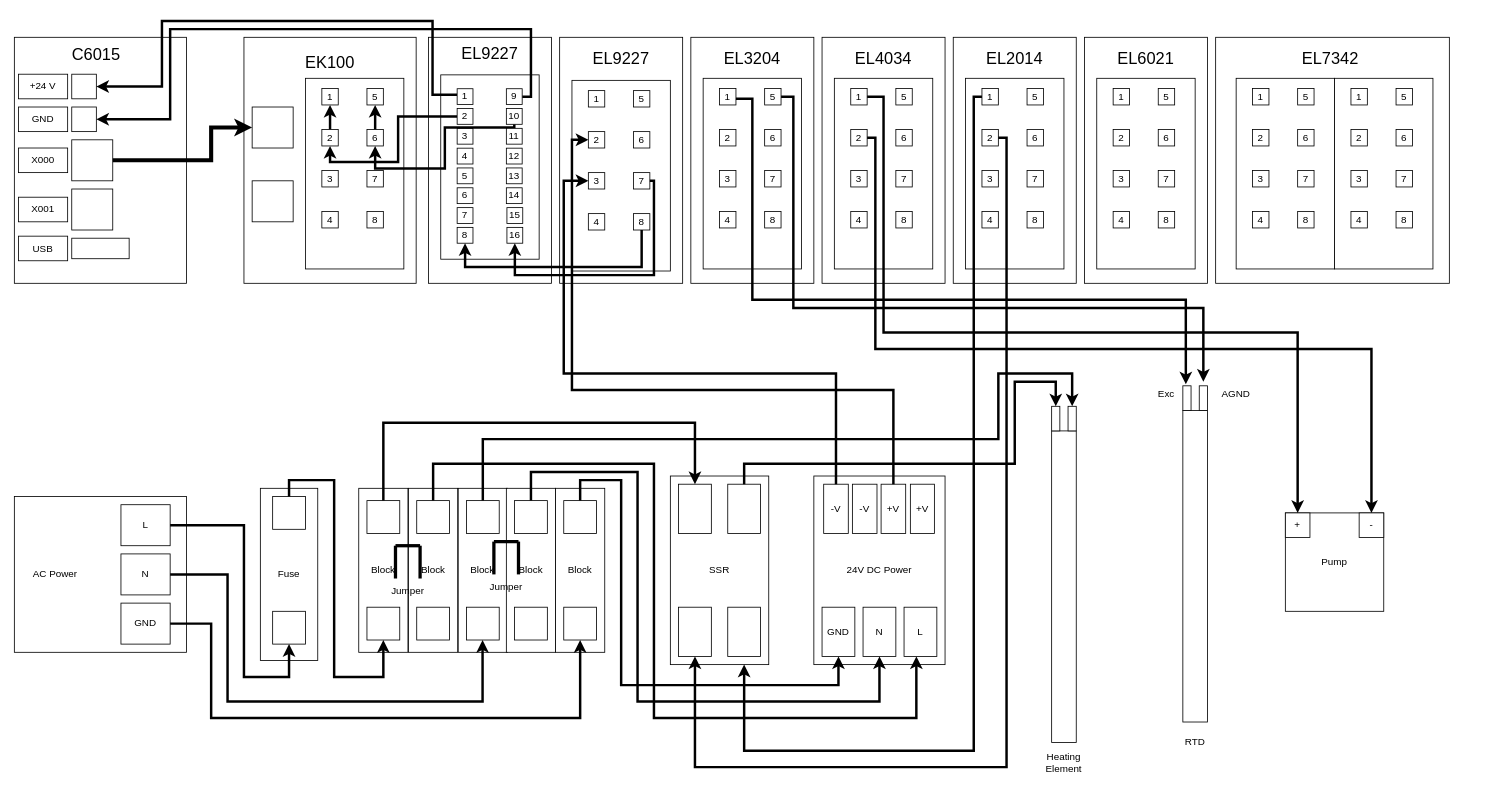
Image size: 1497x790. Some labels were removed from this diagram. Here are the shapes that lost their labels. From the top down, the centre of each, then its label:
the point at 288,512: Output
the point at 694,508: Output 1 (~)
the point at 744,508: Output 2 (~)
the point at 288,627: Input
the point at 694,631: Input 4 (-)
the point at 744,631: Input 3 (+)
